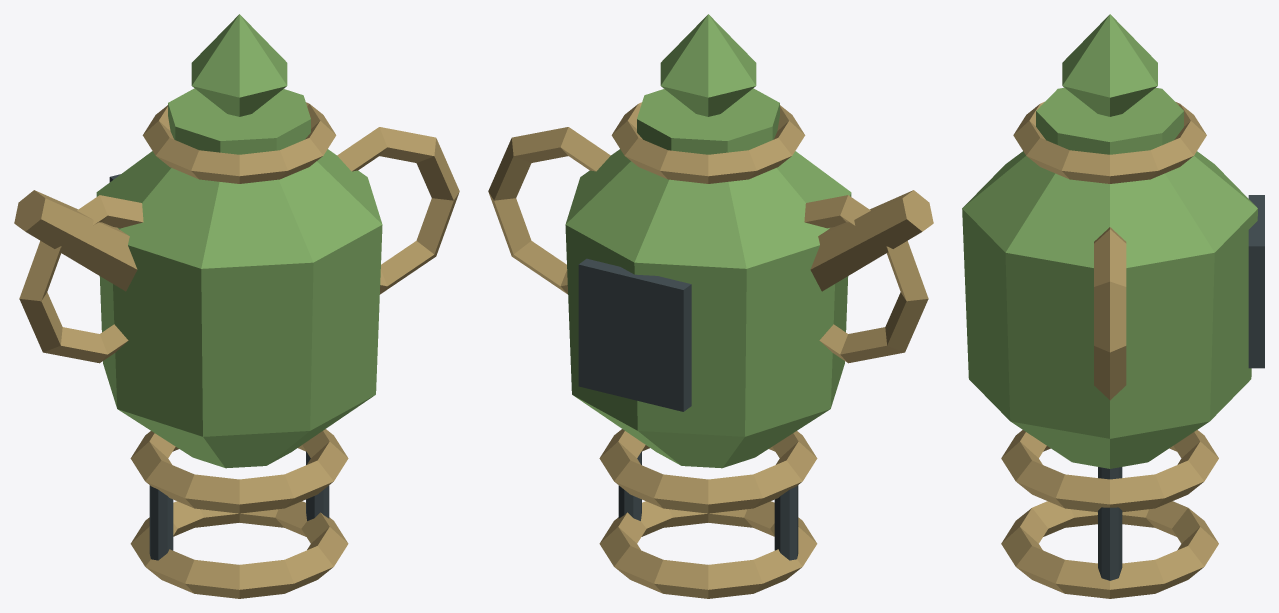
The model's file is Equip_VenomUrn.fbx.
The picture shows the model from 3 angles, left to right: view 1: azimuth 30°, elevation 25°; view 2: azimuth 150°, elevation 25°; view 3: azimuth 270°, elevation 25°; orthographic projection.
Parts seen in each view (by area): view 1: Equip_VenomUrn; view 2: Equip_VenomUrn; view 3: Equip_VenomUrn.
Part boxes in pixels (<box>): Equip_VenomUrn: <box>14,14,459,598</box>; Equip_VenomUrn: <box>488,14,933,598</box>; Equip_VenomUrn: <box>962,14,1264,598</box>.
Bounding box in the file's own units: 0.378 × 0.4485 × 0.225.
